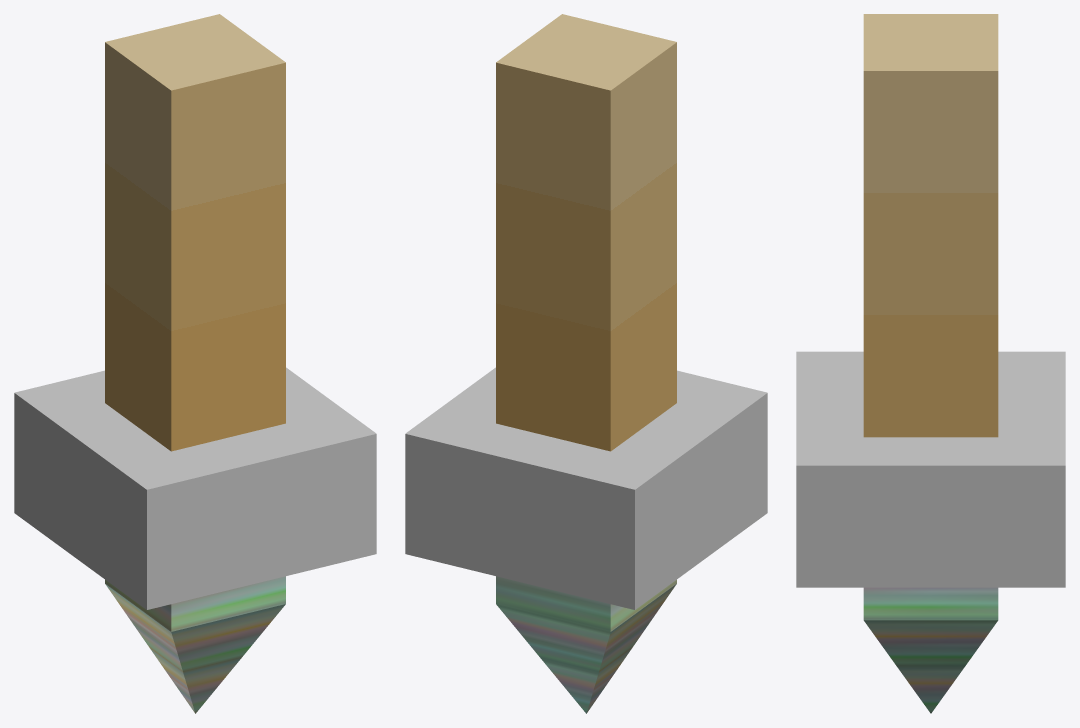
File: altar_of_arcana_candle_short.obj
3 renders of one model, left to right at view 1: azimuth 30°, elevation 25°; view 2: azimuth 150°, elevation 25°; view 3: azimuth 270°, elevation 25°, orthographic.
Visible parts, largest first — view 1: ENSORCELLATION_CANDLE_SHORT_Cylinder.003; view 2: ENSORCELLATION_CANDLE_SHORT_Cylinder.003; view 3: ENSORCELLATION_CANDLE_SHORT_Cylinder.003.
Boxes of the visible parts, x1,y1,x2,y2 form: ENSORCELLATION_CANDLE_SHORT_Cylinder.003: (14, 14, 376, 713); ENSORCELLATION_CANDLE_SHORT_Cylinder.003: (405, 14, 767, 713); ENSORCELLATION_CANDLE_SHORT_Cylinder.003: (796, 14, 1065, 713).
Bounding box in the file's own units: 0.125 × 0.3438 × 0.125.
